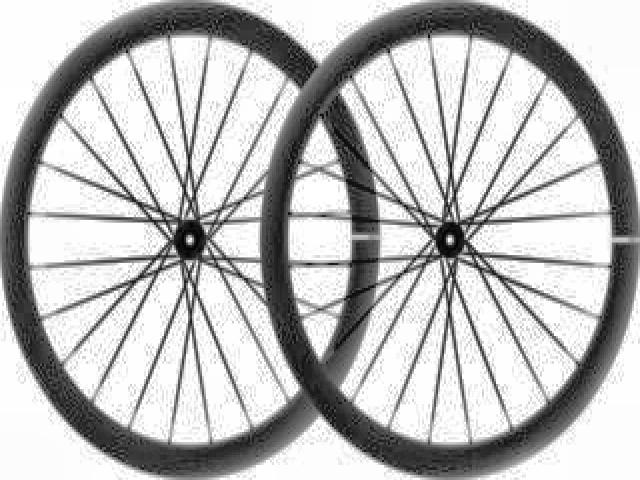wheel: (262, 0, 640, 480), (3, 2, 382, 480)
